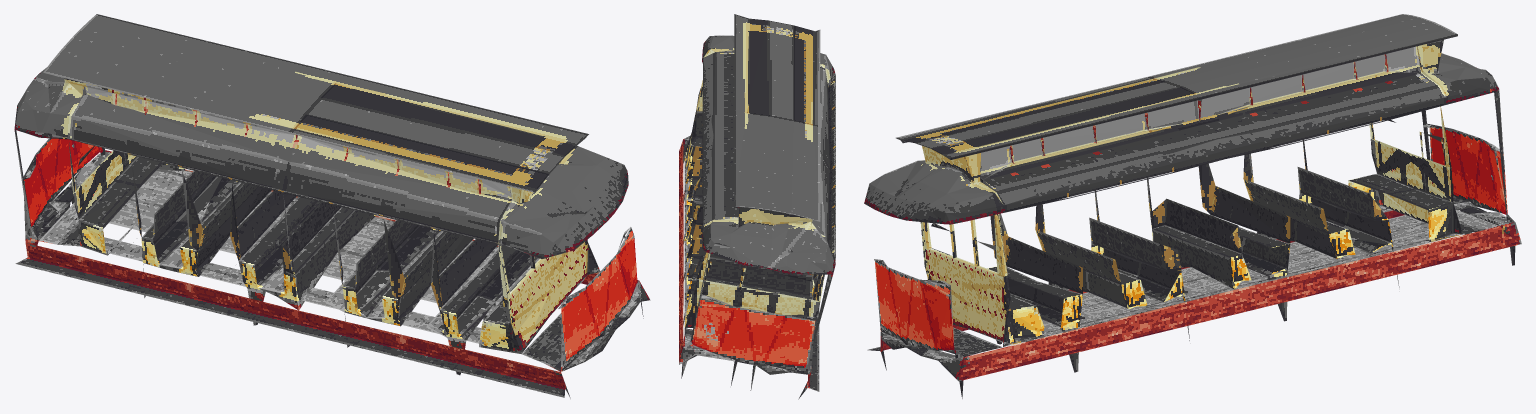
File: tram.glb
The picture shows the model from 3 angles, left to right: view 1: azimuth 30°, elevation 25°; view 2: azimuth 150°, elevation 25°; view 3: azimuth 270°, elevation 25°; orthographic projection. The views are drawn at different scales.
Visible parts, largest first — view 1: model_v; view 2: model_v; view 3: model_v.
Boxes of the visible parts, box(x1,y1,x2,y2) form: model_v: box(14, 14, 650, 398); model_v: box(679, 14, 835, 399); model_v: box(864, 14, 1521, 398).
Bounding box in the file's own units: 35.32 × 18.91 × 47.12.
Materials: 1 (1 with a texture image).
